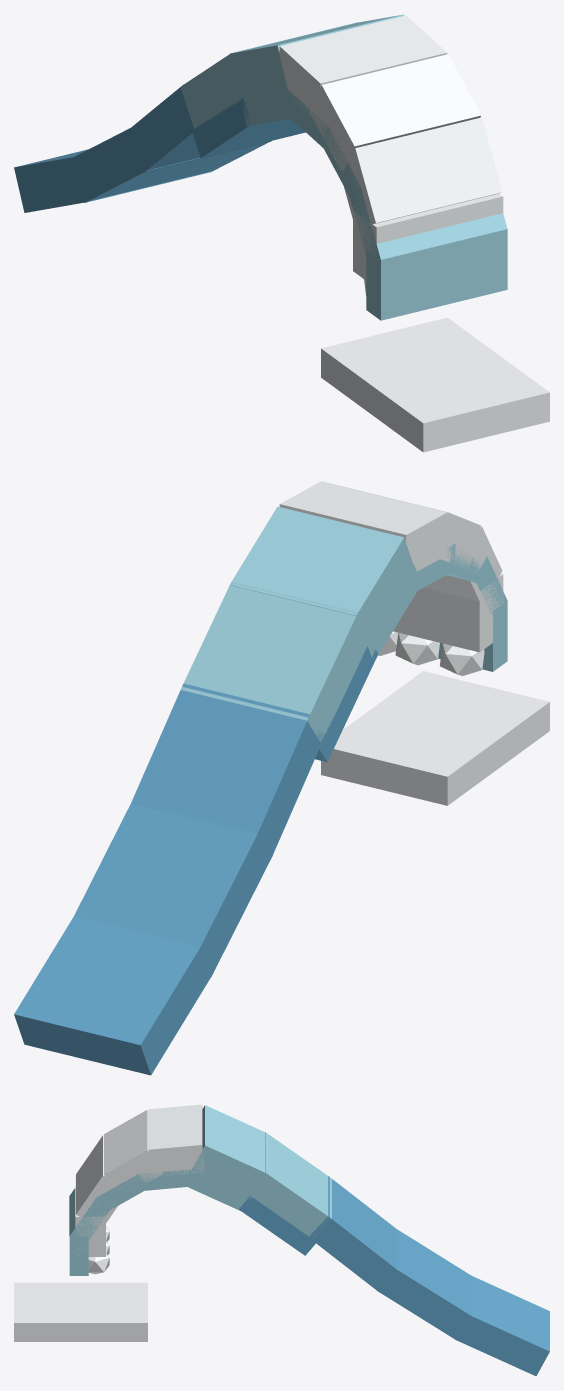
File: Breaker.fbx
3 renders of one model, top to bottom at view 1: azimuth 30°, elevation 25°; view 2: azimuth 150°, elevation 25°; view 3: azimuth 270°, elevation 25°, orthographic. The views are drawn at different scales.
Parts seen in each view (by area): view 1: Body; view 2: Body; view 3: Body.
Boxes of the visible parts, x1,y1,x2,y2 form: Body: (14, 14, 549, 452); Body: (14, 481, 549, 1075); Body: (14, 1104, 549, 1375).
Size of the model in its own units: 1.01 by 2.67 by 5.6.
